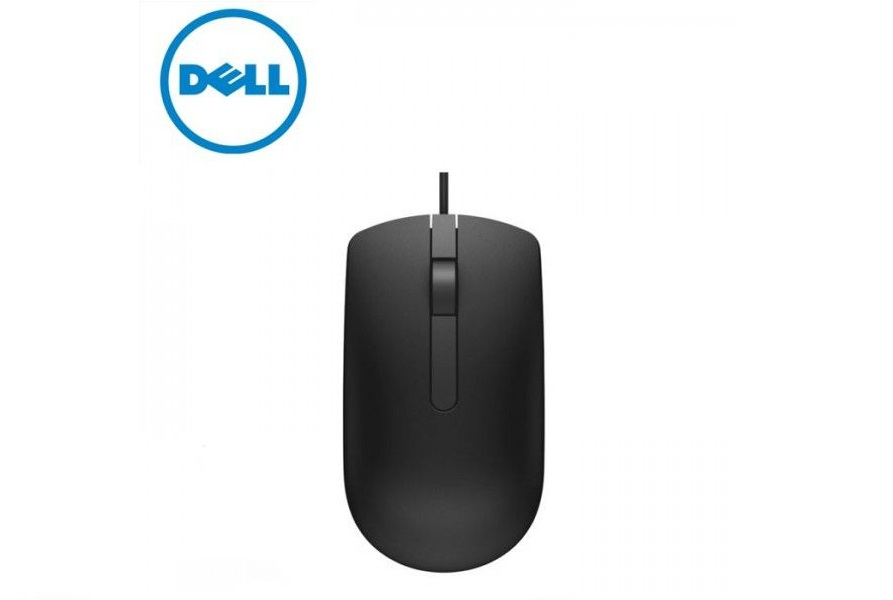dell-mouse-ms116: (342, 165, 553, 583)
